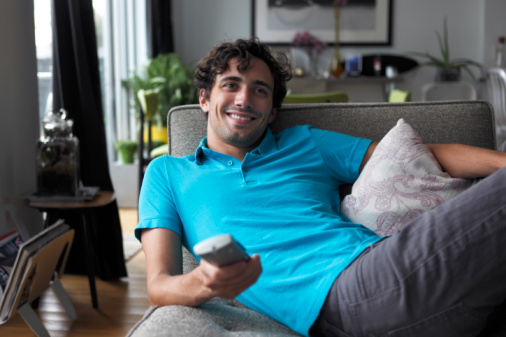deitado: (144, 19, 452, 337)
